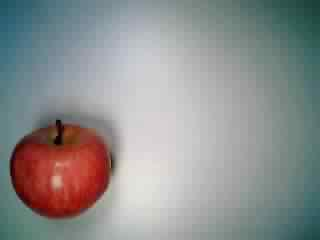apple: (9, 118, 112, 222)
